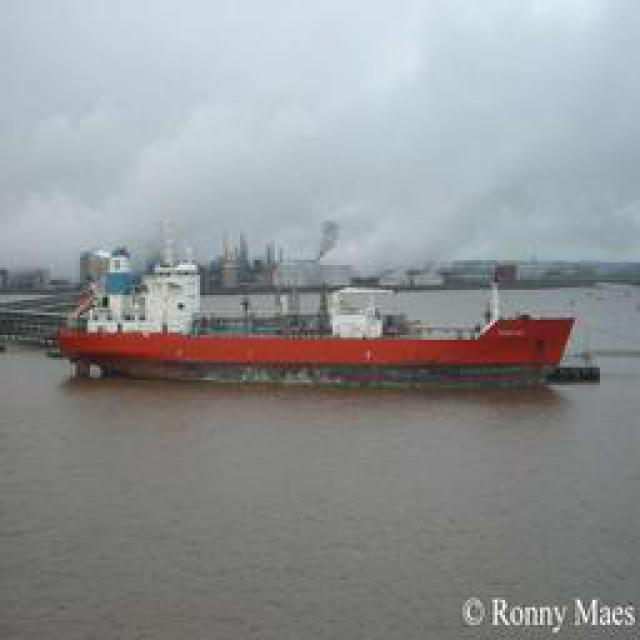Ship: (56, 269, 564, 384)
